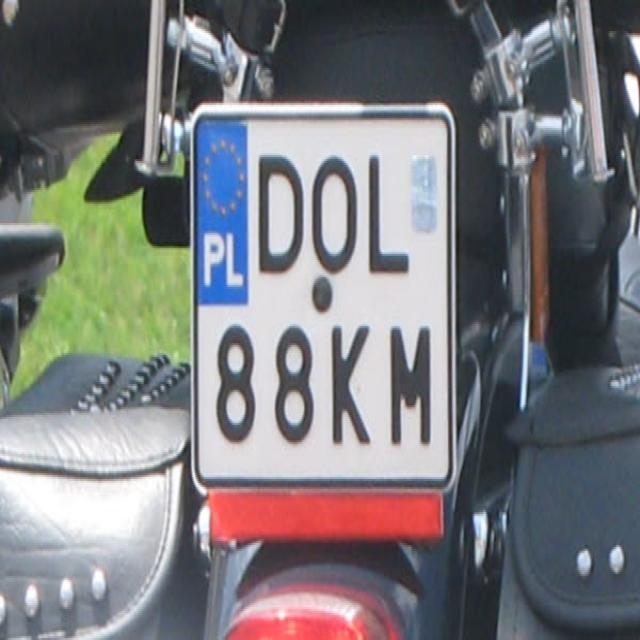pl_license_plate: (194, 118, 448, 475)
